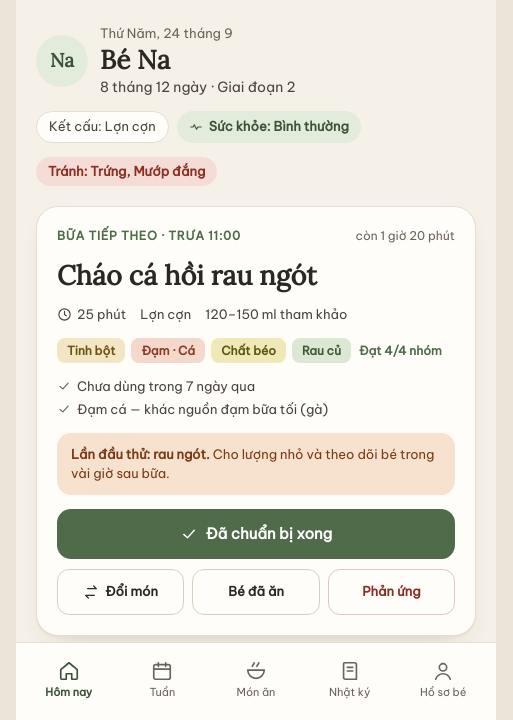
Scenario: Today (S01) › TC-UI-024 rolls back and explains when the meal was already logged elsewhere
The width and height of the screenshot is (513, 720).
Click the button "Đã chuẩn bị xong".
click(256, 534)  # box [57,509,455,559]
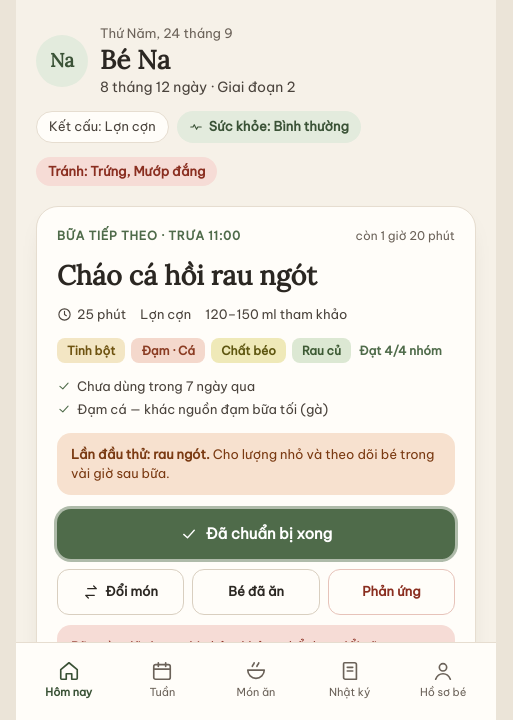
Check: the text "Bữa này đã được ghi nhận, không thể thay đổi nữa." is shown, box [71,637,390,655]
